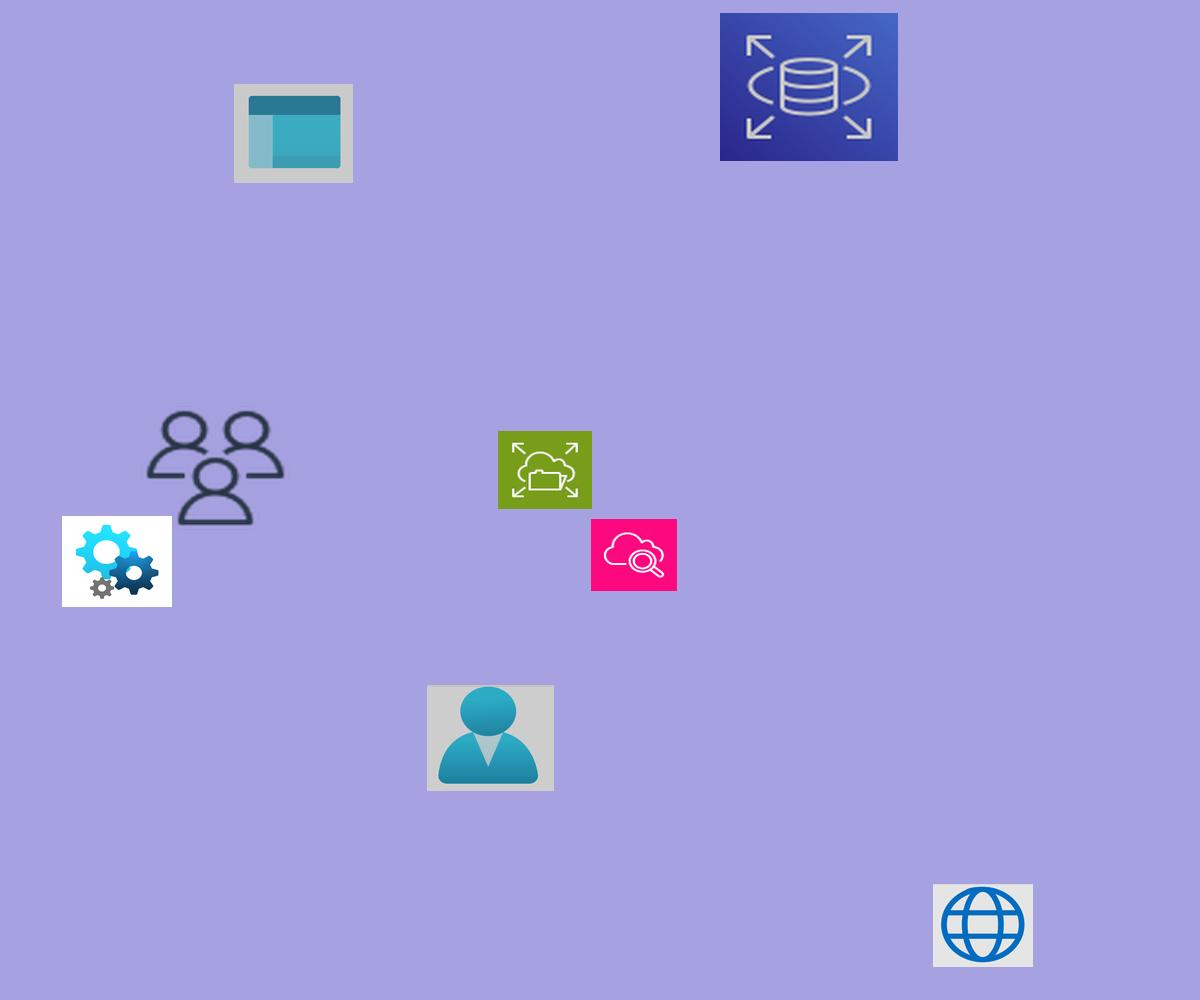AWS-CloudWatch: (591, 519, 677, 591)
AWS-EFS: (498, 431, 592, 509)
AWS-RDS: (720, 13, 898, 161)
AWS-Res_Users: (141, 406, 290, 530)
Azure_api: (62, 516, 172, 607)
Azure_http: (933, 884, 1033, 967)
Azure_management-portal: (234, 84, 353, 183)
Azure_users: (427, 685, 554, 791)
